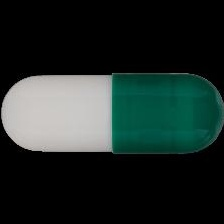60429-165: (0, 0, 224, 224)
